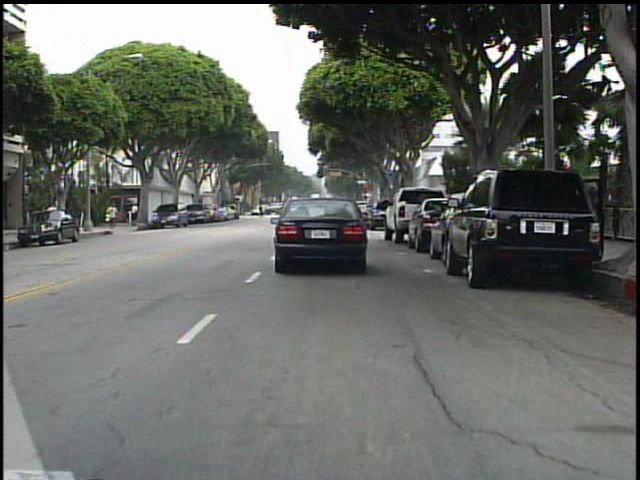person: (108, 200, 122, 230), (131, 200, 145, 229), (258, 200, 269, 221)
